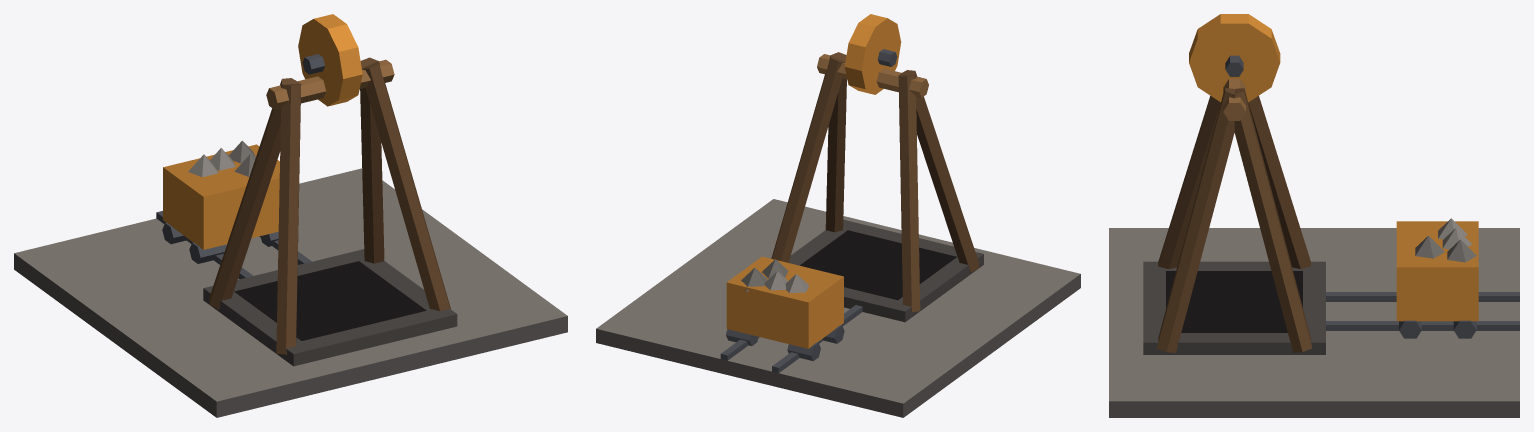
File: mine.glb
3 views of the same model, side by side, from view 1: azimuth 30°, elevation 25°; view 2: azimuth 150°, elevation 25°; view 3: azimuth 270°, elevation 25° (orthographic). The views are drawn at different scales.
Parts seen in each view (by area): view 1: mine; view 2: mine; view 3: mine.
Part boxes in pixels (left/top/right/bottom): mine: left=14, top=14, right=567, bottom=417; mine: left=596, top=14, right=1080, bottom=417; mine: left=1109, top=14, right=1519, bottom=417.
Bounding box in the file's own units: 1.8 × 1.51 × 1.8.
